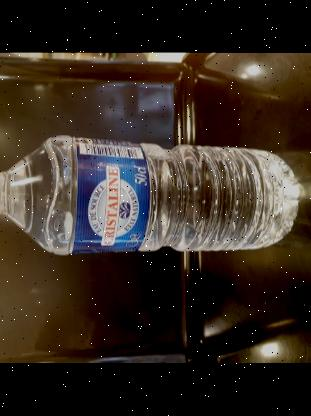Plastic Bottle: (0, 125, 309, 259)
